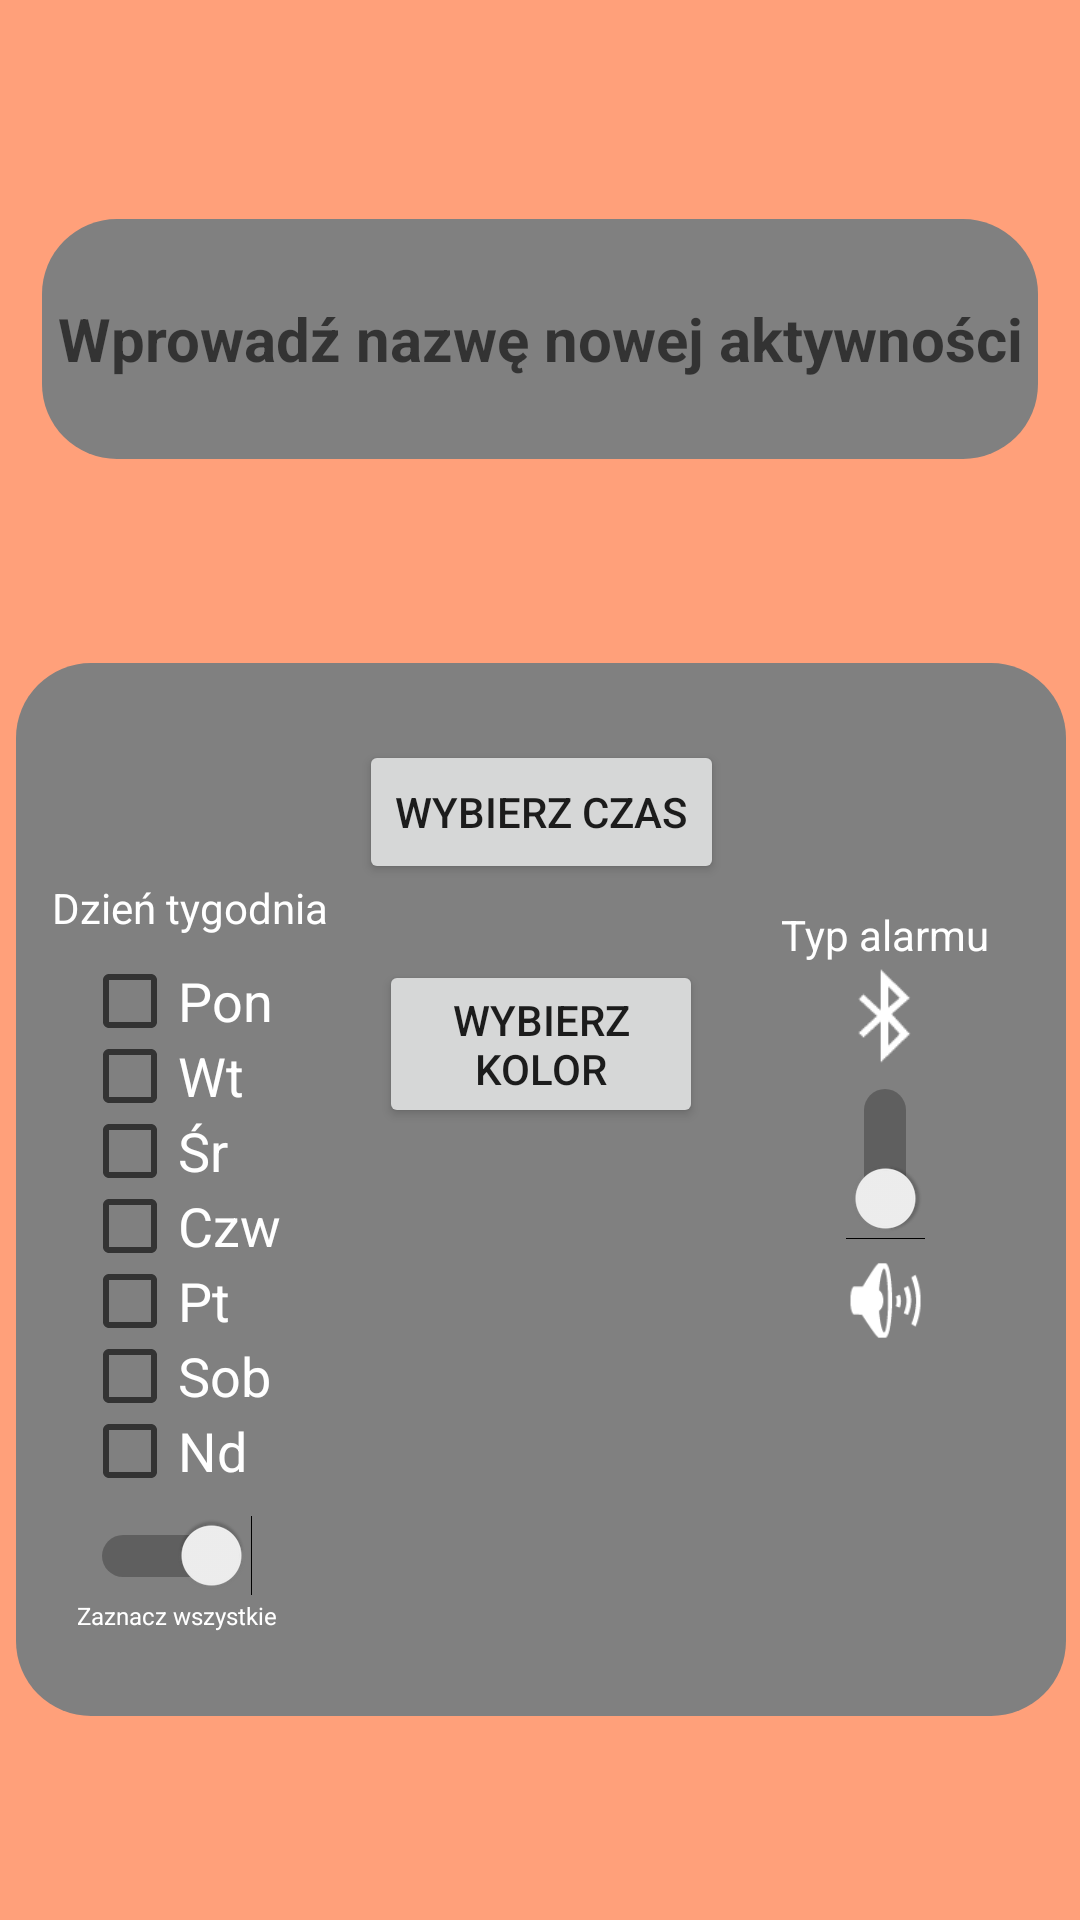

Where to tap for icons on this 1080w x 1920h app screen, as (x,y):
speaker: (885,1300)
